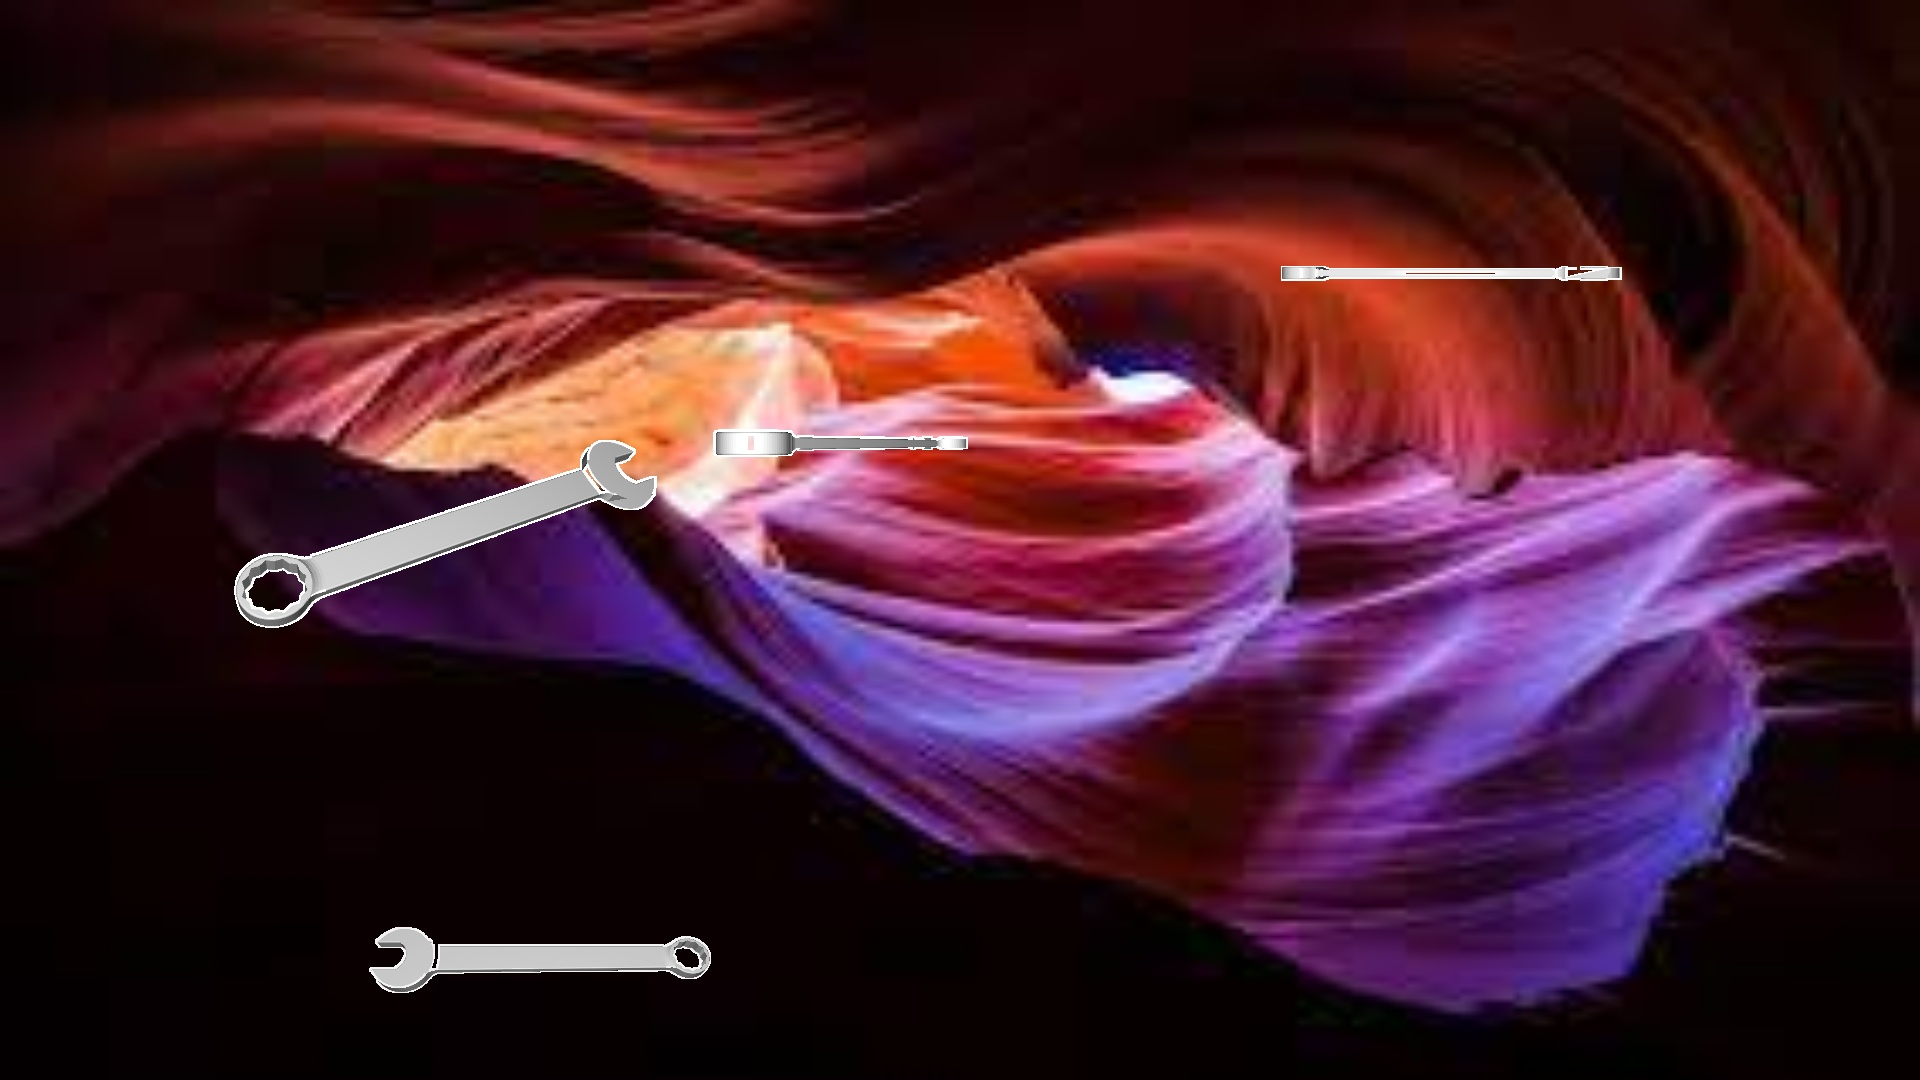Mixed Key: (233, 440, 655, 626), (369, 927, 709, 992), (713, 429, 967, 456), (1280, 266, 1621, 280)
